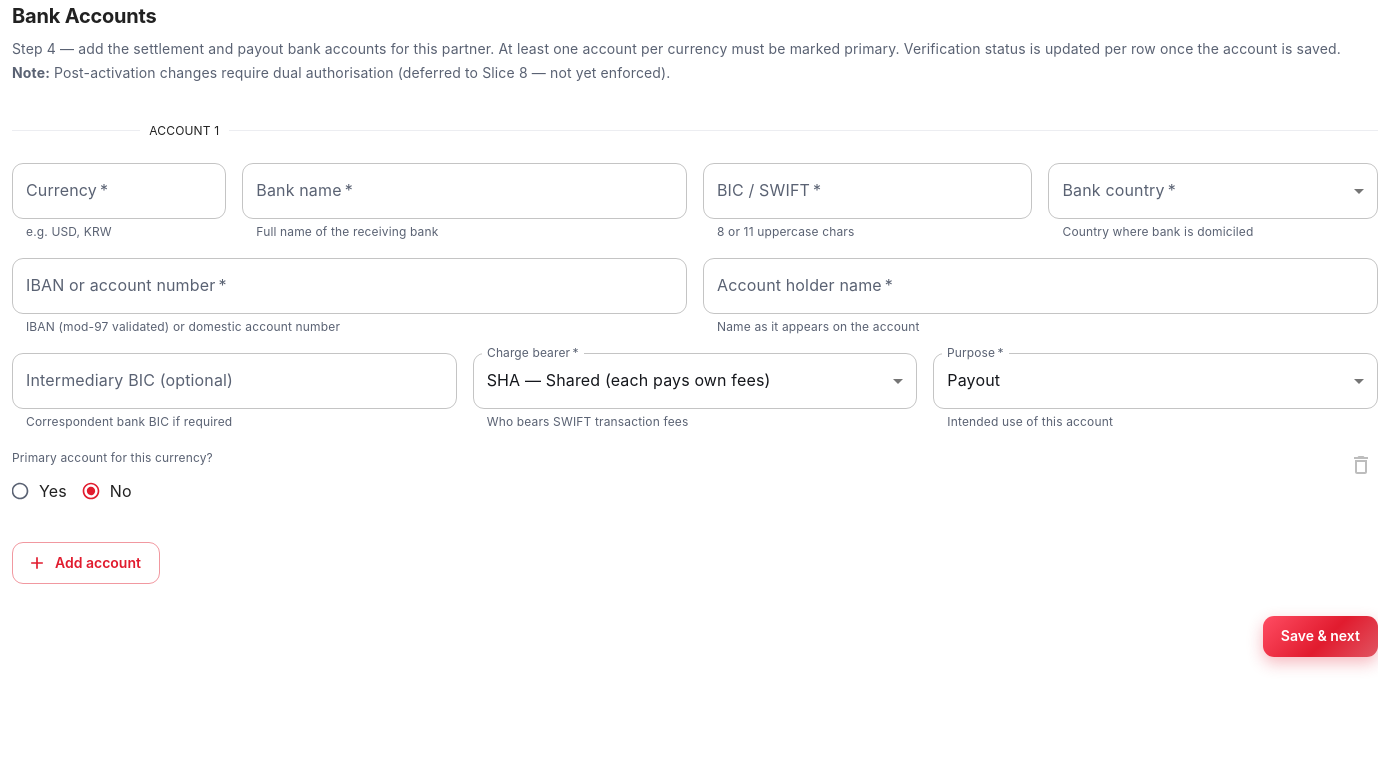
Test: BankAccountsSection › flags required fields on empty submit
Click the button "Save & next": (1320, 636) [1263,616,1378,657]
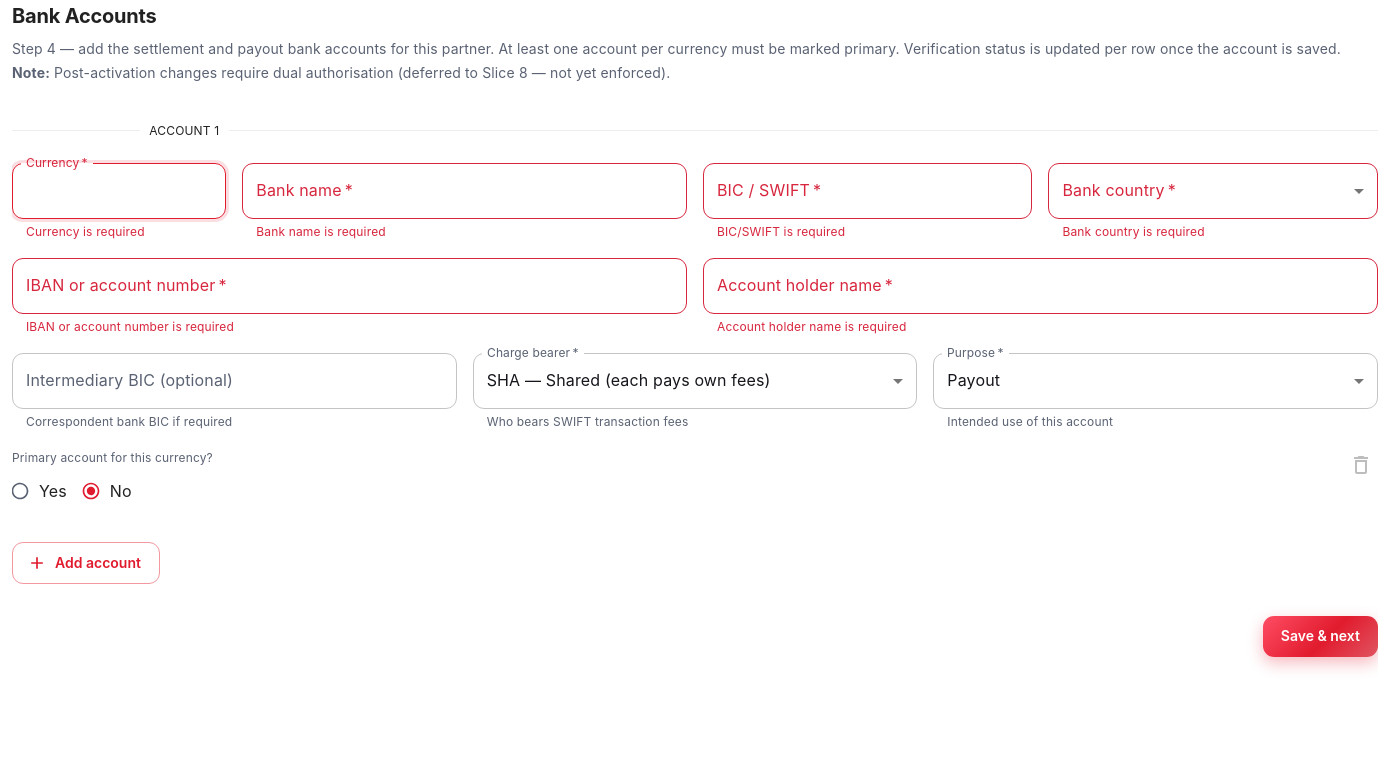
Result: the text "Currency is required" is shown at [26,224,145,239]
